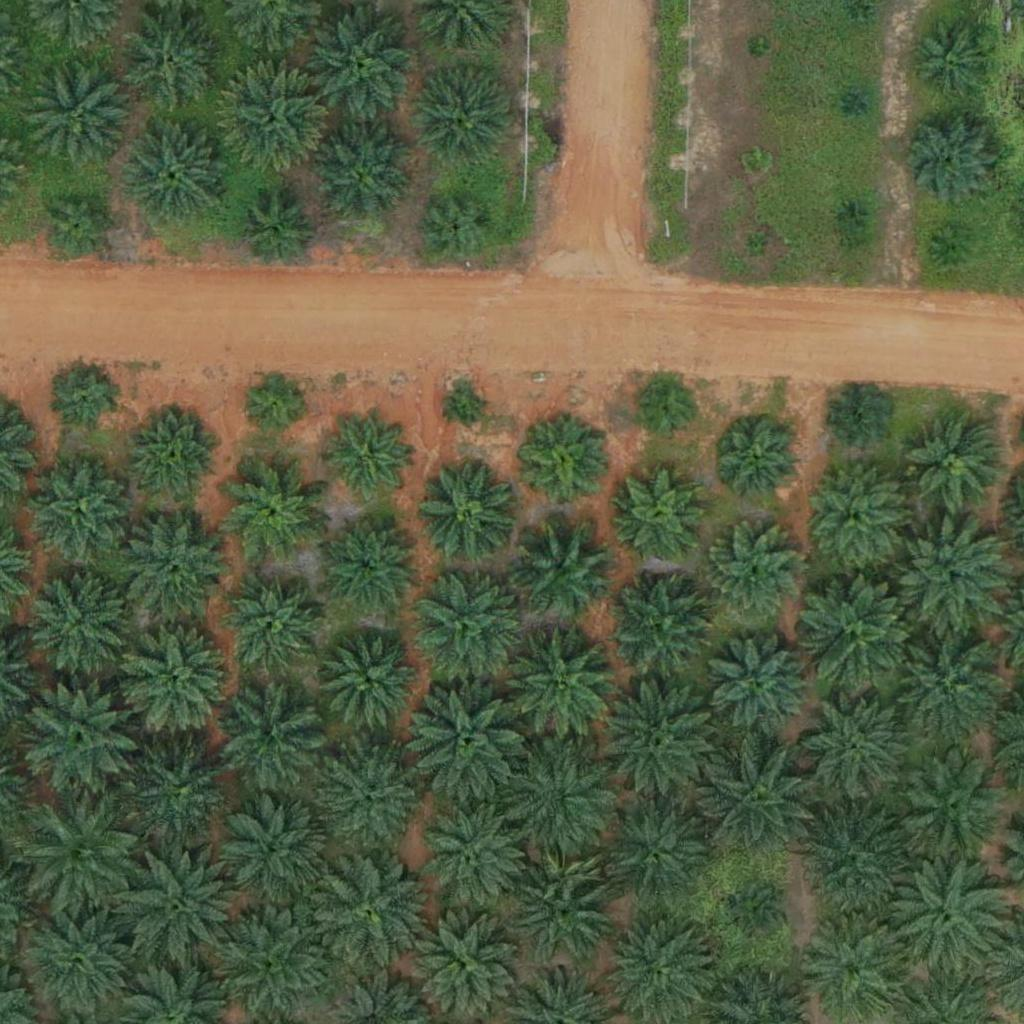Kelapa_Sawit: (19, 677, 144, 803), (17, 795, 142, 921), (114, 843, 239, 969), (402, 681, 527, 807), (495, 738, 620, 864), (591, 680, 716, 806), (696, 739, 821, 865), (797, 570, 922, 696), (793, 799, 918, 925), (880, 619, 1005, 745), (890, 850, 1015, 976), (17, 897, 142, 1023), (115, 620, 240, 745), (305, 851, 430, 976), (505, 629, 618, 743), (605, 570, 718, 684), (305, 7, 418, 120), (597, 797, 710, 910), (894, 519, 1007, 632), (895, 751, 1008, 864), (218, 68, 330, 181), (894, 104, 1006, 217), (411, 564, 523, 677), (414, 800, 526, 913), (504, 849, 616, 962), (705, 631, 817, 744), (796, 688, 908, 801), (312, 125, 412, 226), (121, 16, 221, 117), (125, 123, 225, 224), (28, 61, 128, 162), (29, 458, 129, 559), (29, 570, 129, 671), (124, 515, 224, 616), (132, 742, 232, 843), (226, 462, 326, 563), (221, 577, 321, 678), (222, 691, 322, 792), (226, 795, 326, 896), (318, 514, 418, 615), (320, 630, 420, 731), (317, 746, 417, 847), (414, 918, 514, 1019), (701, 524, 801, 625), (805, 465, 905, 566), (905, 413, 1005, 514), (415, 67, 515, 167), (418, 459, 518, 559), (513, 517, 613, 617), (912, 15, 1000, 104), (323, 414, 411, 502), (616, 469, 704, 557), (715, 418, 803, 506), (135, 411, 222, 499), (522, 423, 609, 511), (421, 189, 496, 265), (239, 195, 314, 270), (43, 189, 118, 264), (726, 885, 789, 948), (827, 388, 890, 451), (56, 368, 118, 431), (242, 369, 304, 432), (637, 381, 699, 444), (934, 226, 972, 264), (449, 389, 486, 427), (844, 2, 869, 27), (746, 37, 771, 62), (742, 149, 767, 174), (745, 233, 770, 258), (845, 91, 870, 116), (838, 201, 863, 226)
